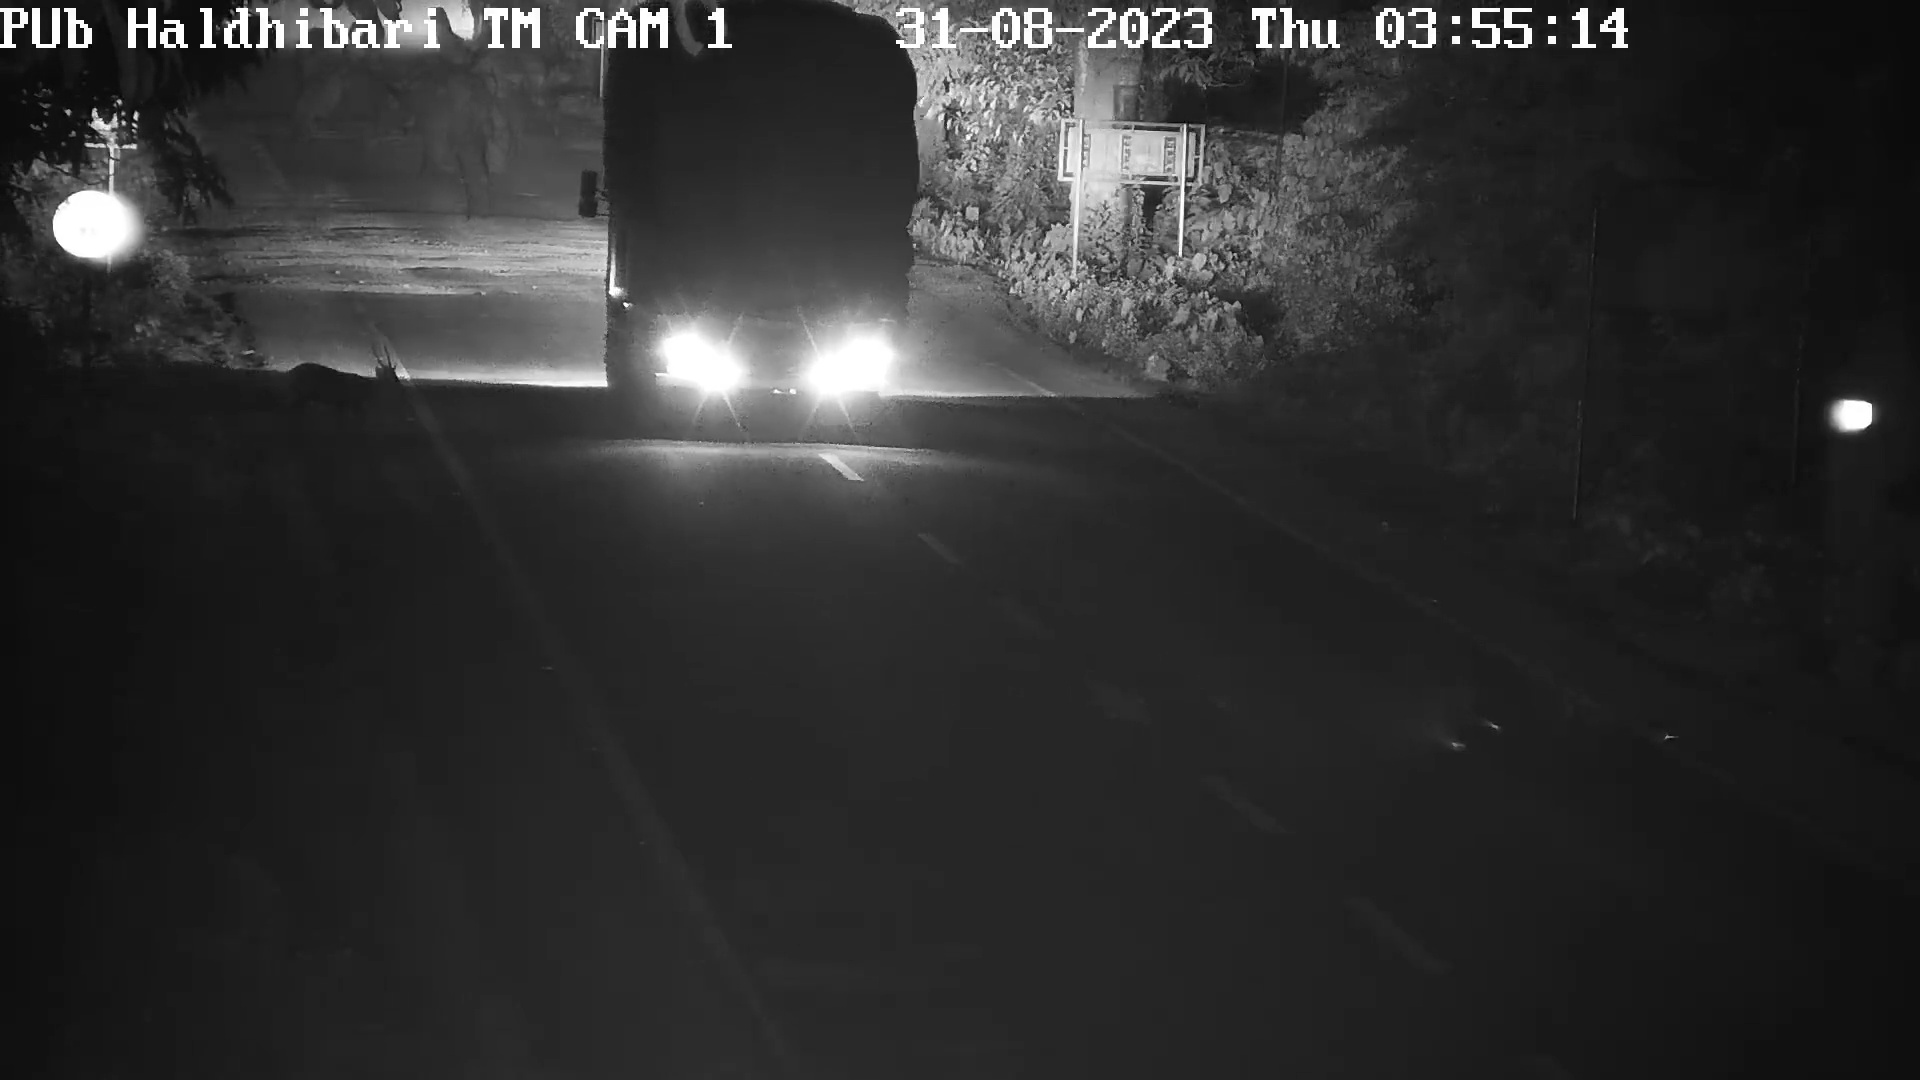deers: (281, 344, 405, 427)
